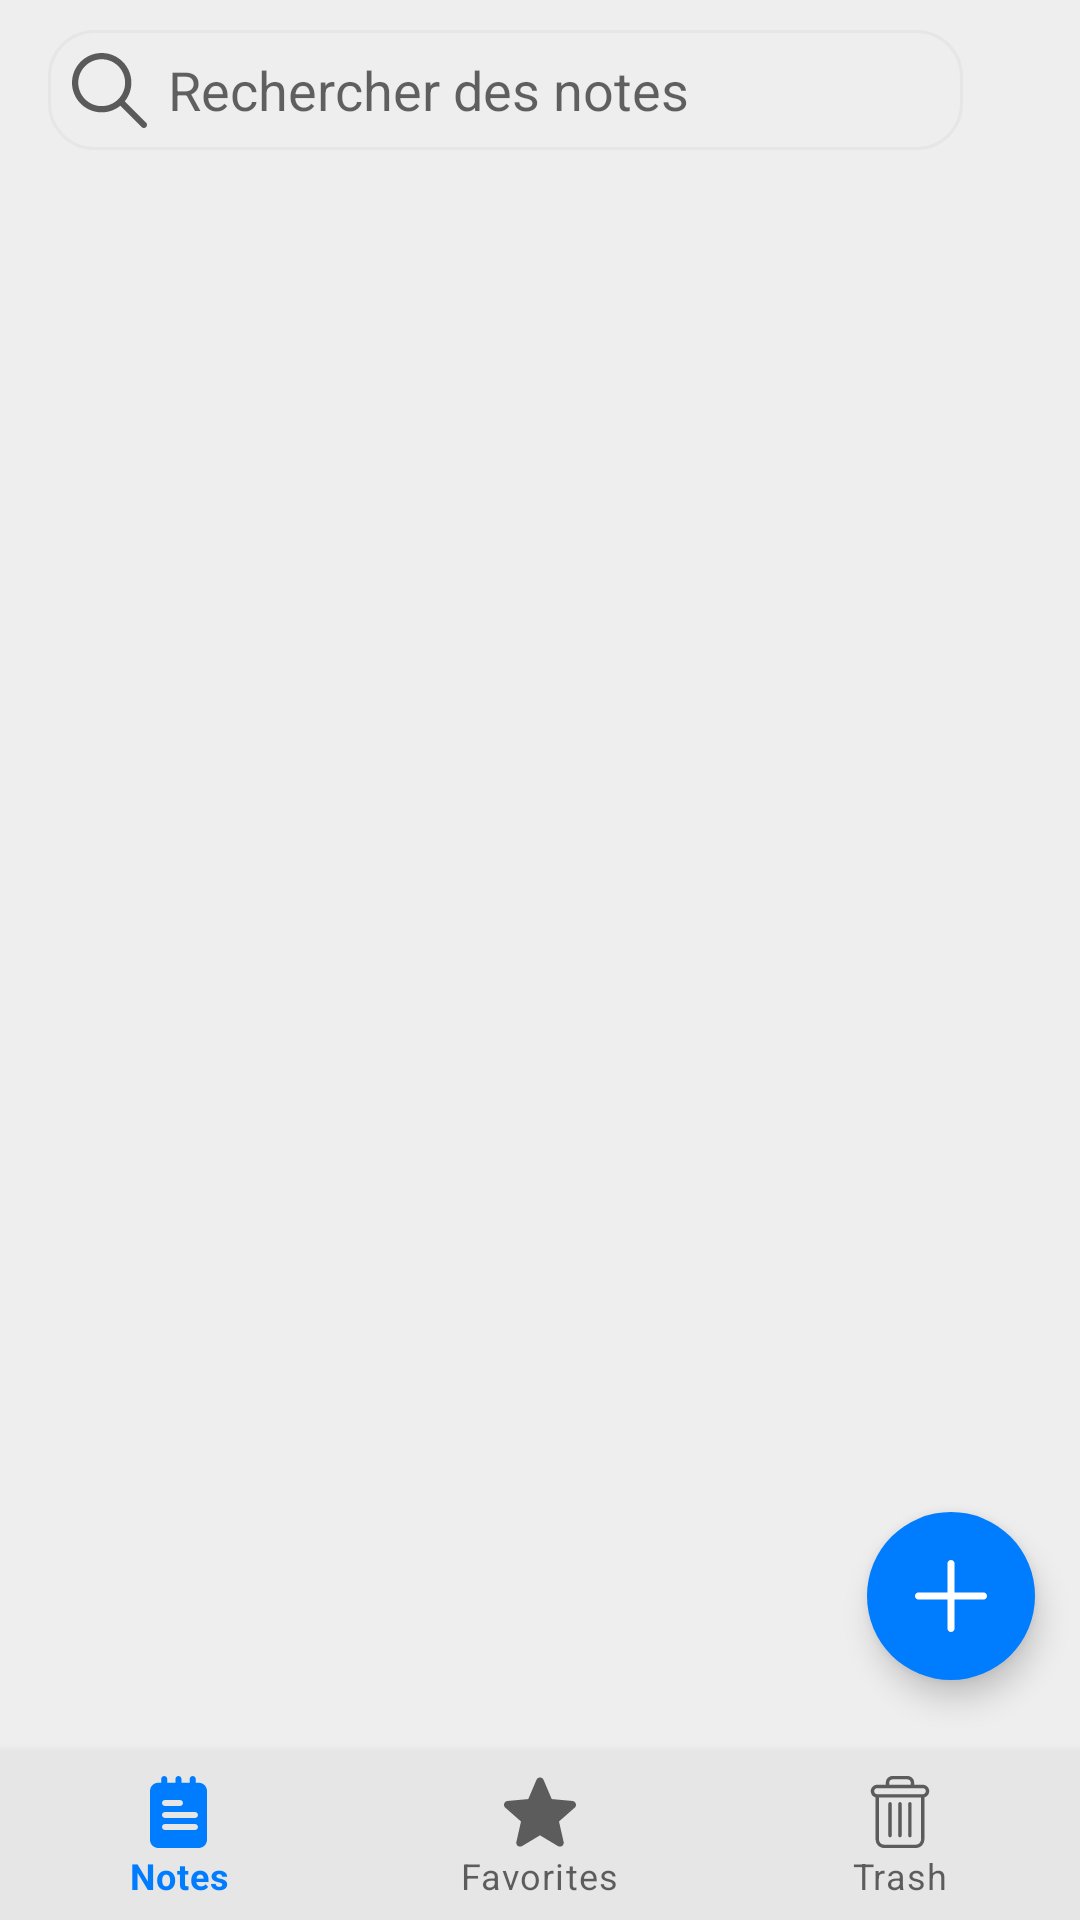

Where icons sit on this 1080x1920 app screen, as [x1,y1,x2,y2]:
plus: [867,1512,1035,1680]
search: [72,53,147,128]
